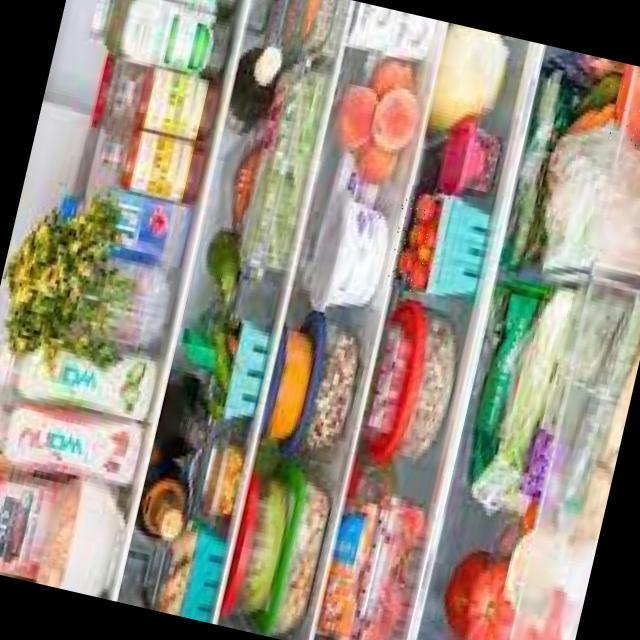Tomate: (384, 182, 452, 294), (596, 59, 640, 156)
